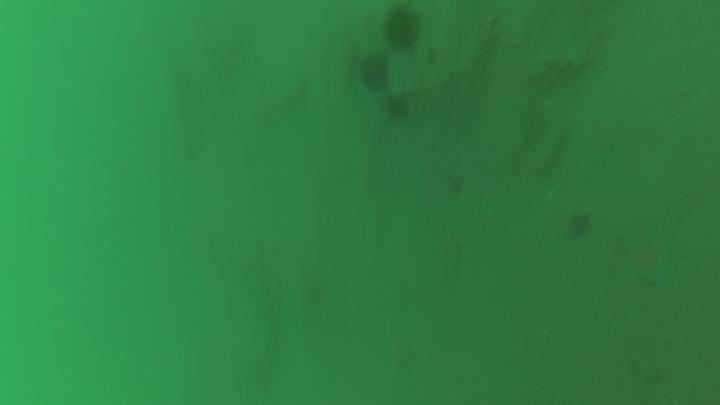echinus: (376, 2, 427, 55), (352, 45, 396, 100)
holothurian: (539, 120, 571, 173)
